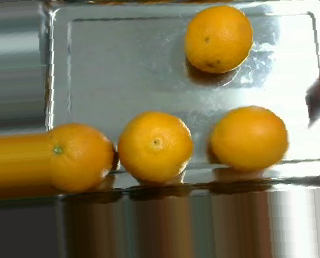Orange: (118, 110, 193, 182), (209, 105, 288, 171), (184, 5, 253, 73)
